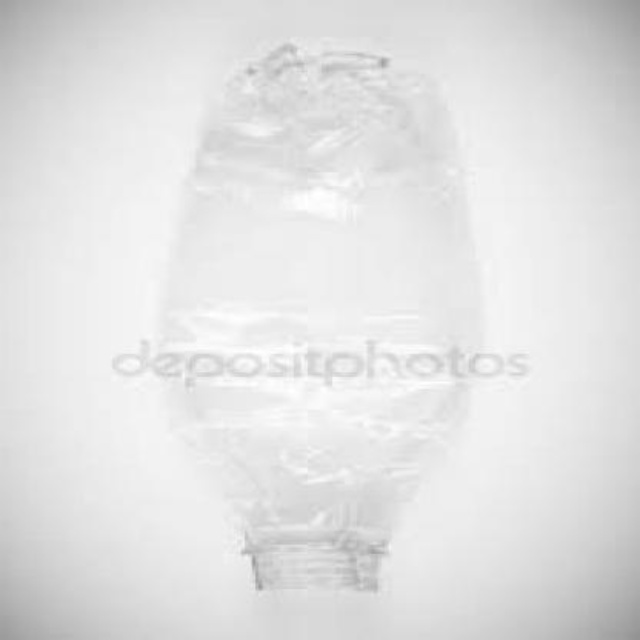trash: (142, 42, 475, 589)
